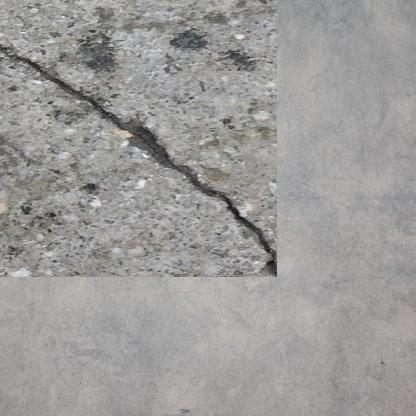Cracks: (0, 31, 256, 256)
